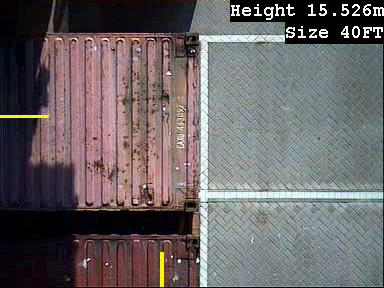groundmarker_2: (175, 181, 254, 231)
